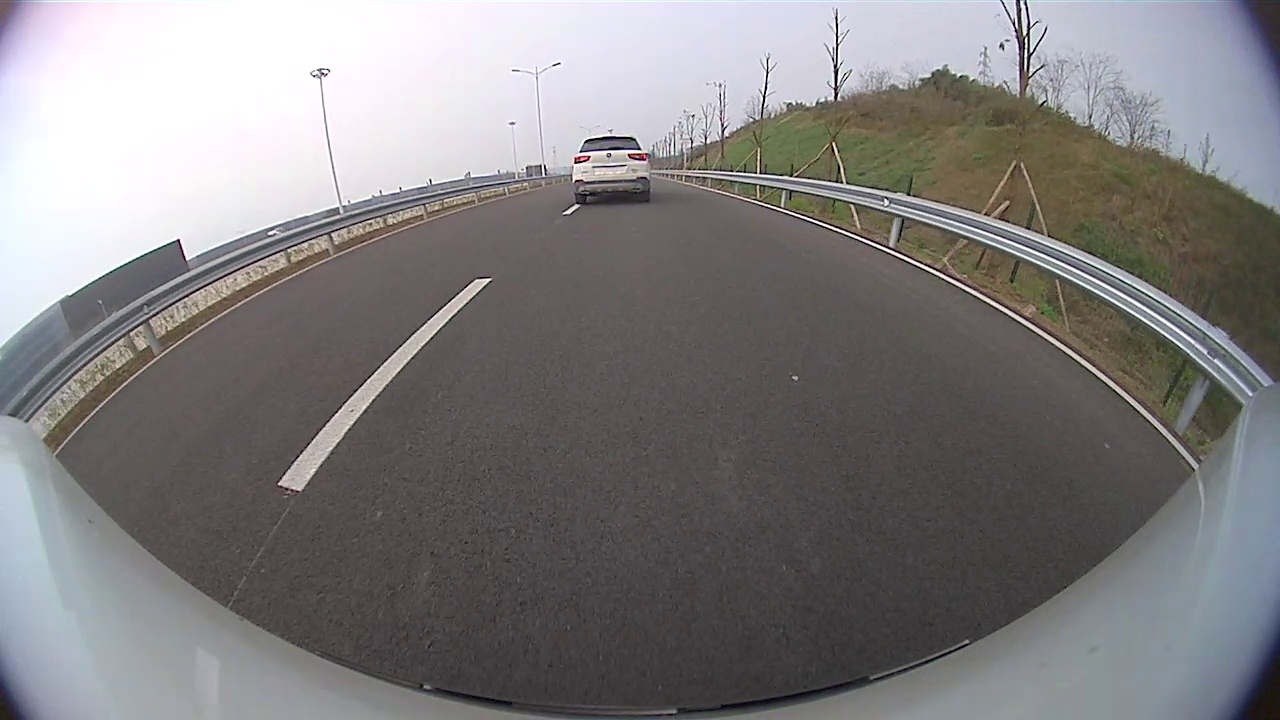car: (572, 132, 653, 207)
